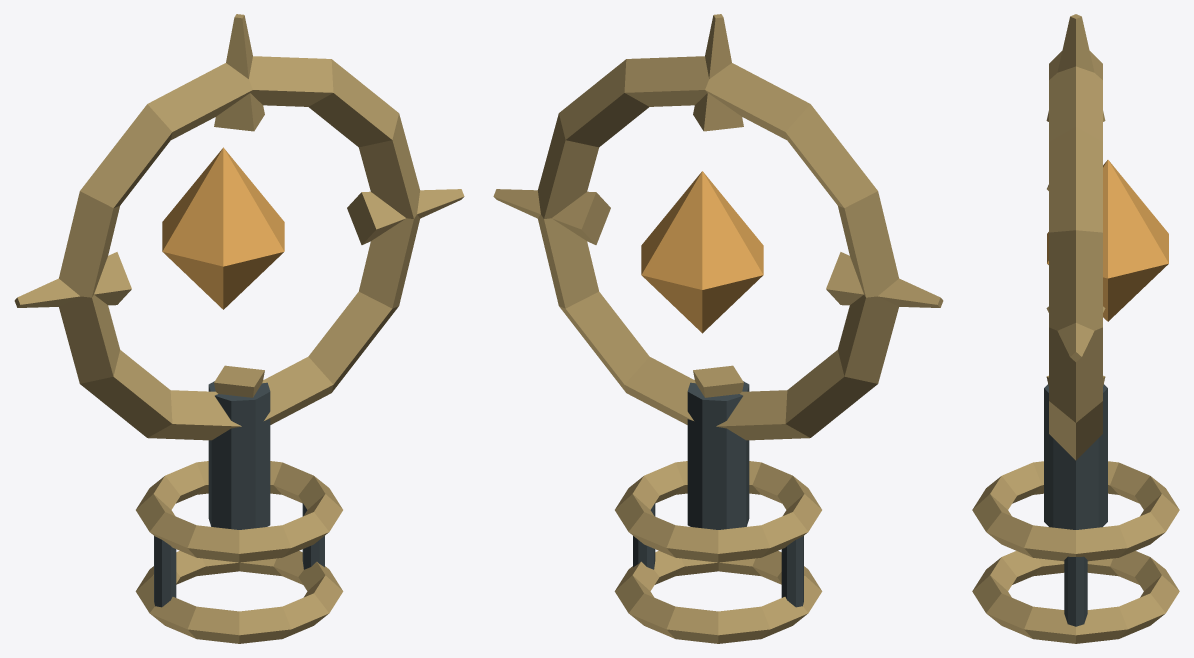
File: Equip_SunAperture.fbx
3 renders of one model, left to right at view 1: azimuth 30°, elevation 25°; view 2: azimuth 150°, elevation 25°; view 3: azimuth 270°, elevation 25°, orthographic.
Visible parts, largest first — view 1: Equip_SunAperture; view 2: Equip_SunAperture; view 3: Equip_SunAperture.
Part boxes in pixels (bbox=[...]): Equip_SunAperture: bbox=[14, 14, 464, 643]; Equip_SunAperture: bbox=[493, 14, 943, 643]; Equip_SunAperture: bbox=[972, 14, 1179, 643].
Bounding box in the file's own units: 0.4 × 0.509 × 0.162.
